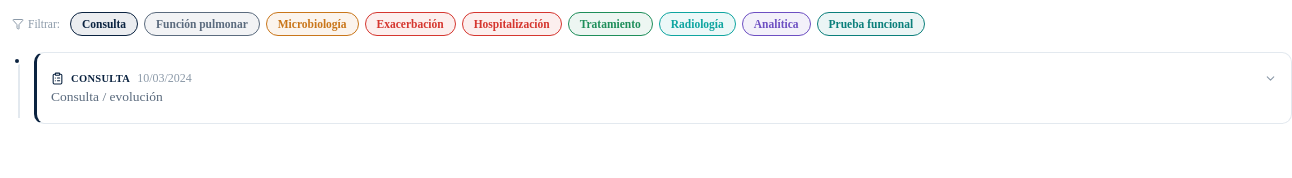
TimelineTab › una consulta/evolución corta se muestra entera, sin 'Ver más'
Click the text "Consulta / evolución": (107, 96) top-left (51, 89), bottom-right (163, 104)
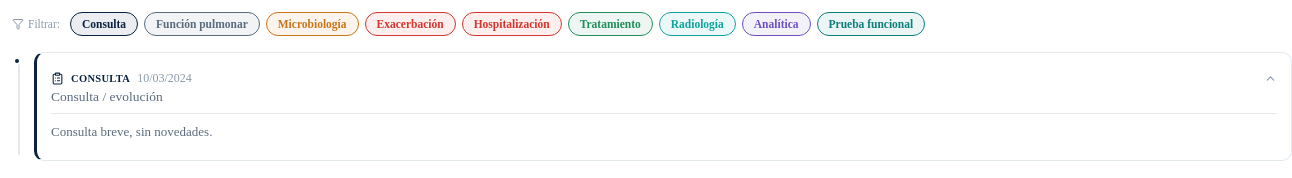
Now the text "Consulta breve, sin novedades." is shown, box top-left (51, 113), bottom-right (1277, 142)
